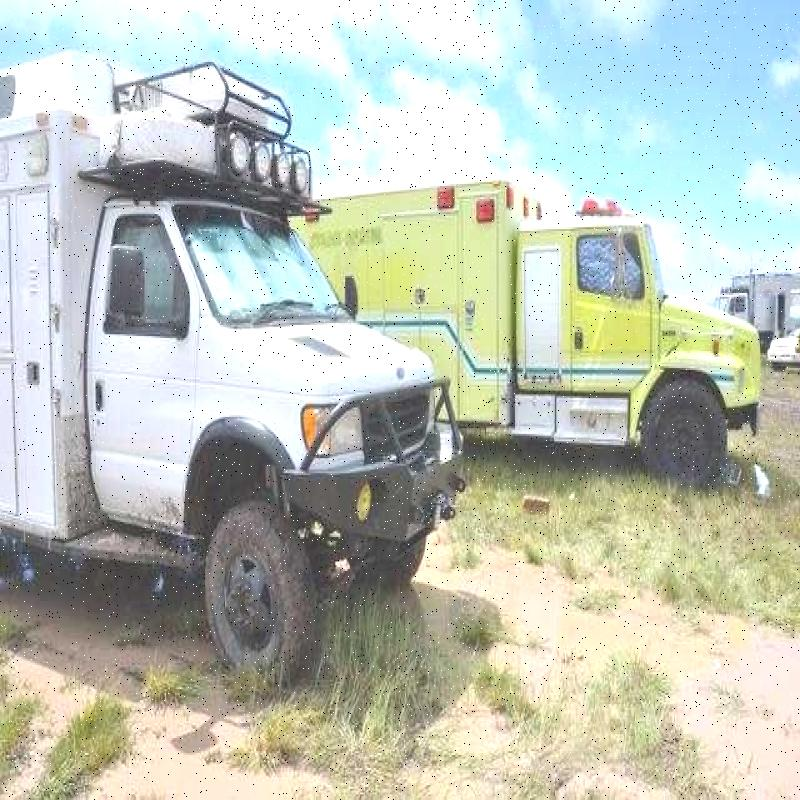AmbulanceSiren: (570, 183, 630, 225)
